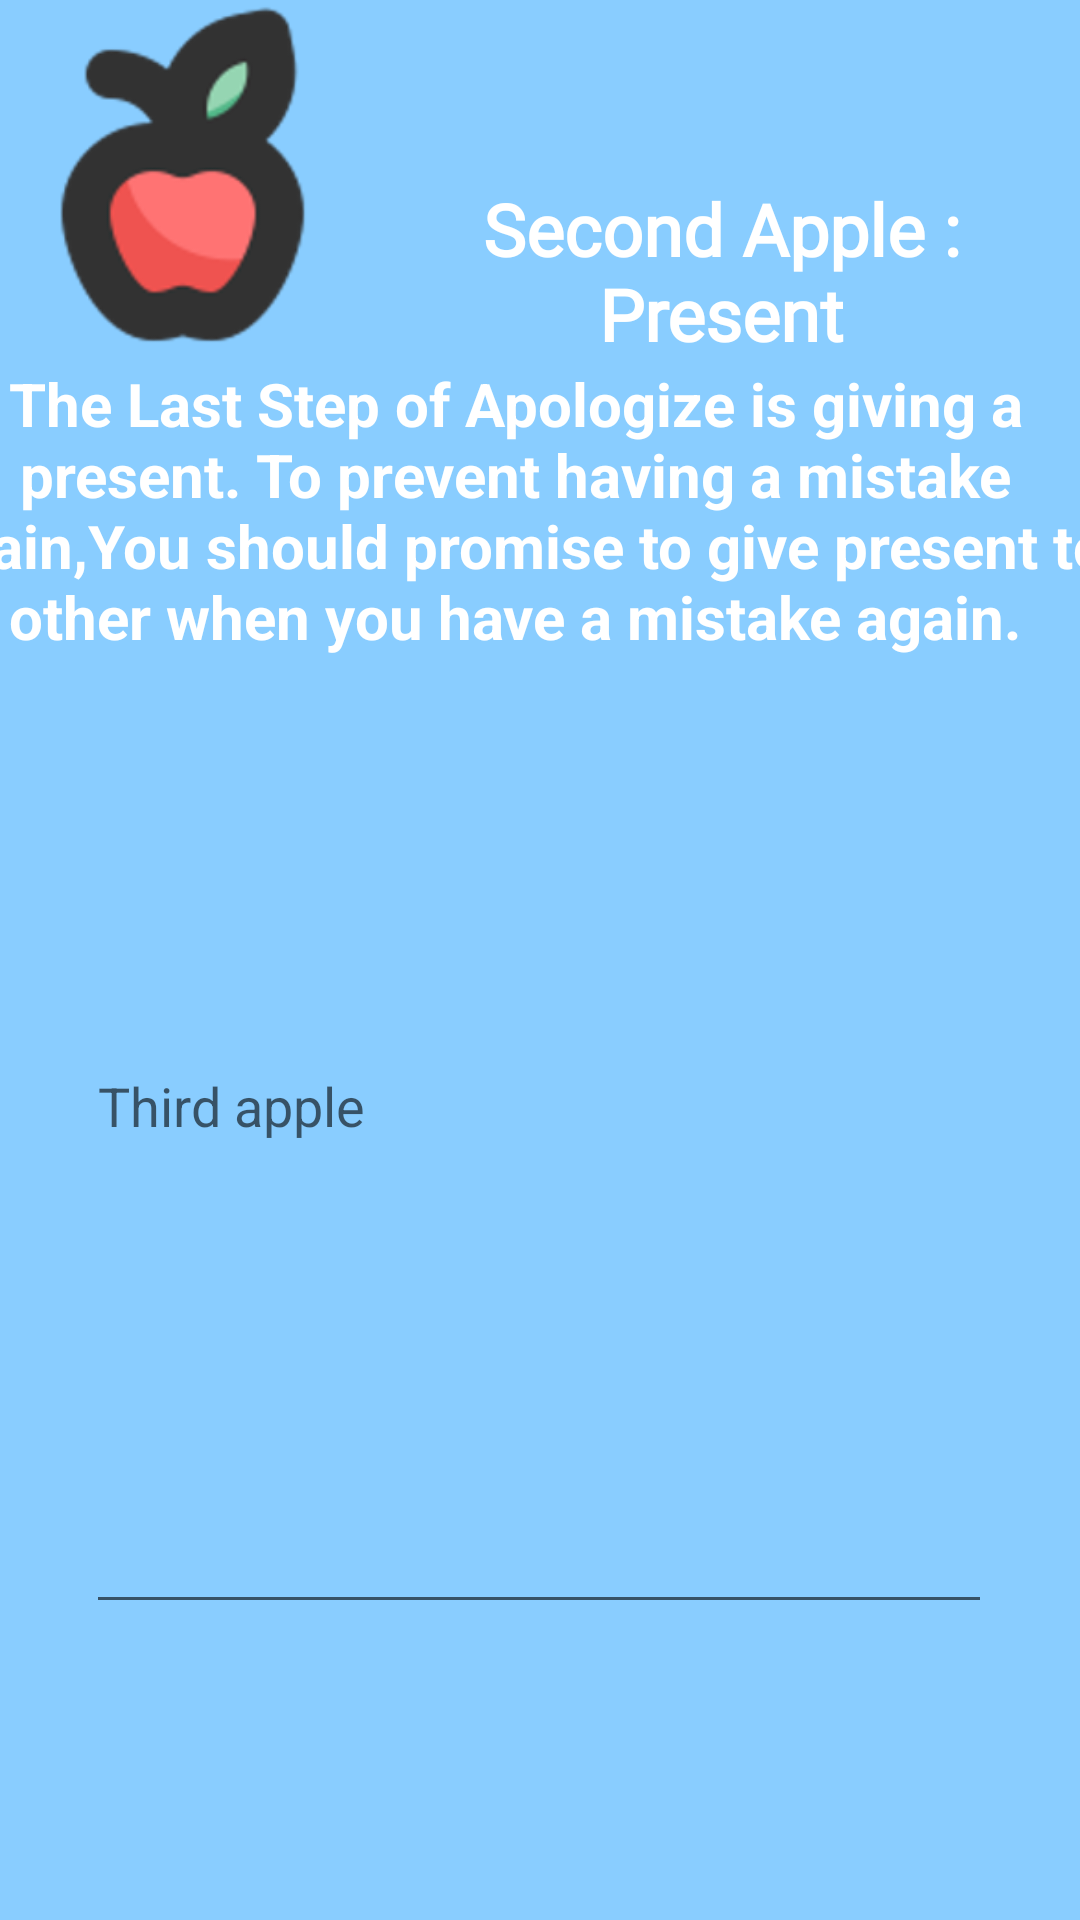

Icons on this 1080x1920 Android screen, each with the point to tap as (x,y):
only apple: (182,174)
